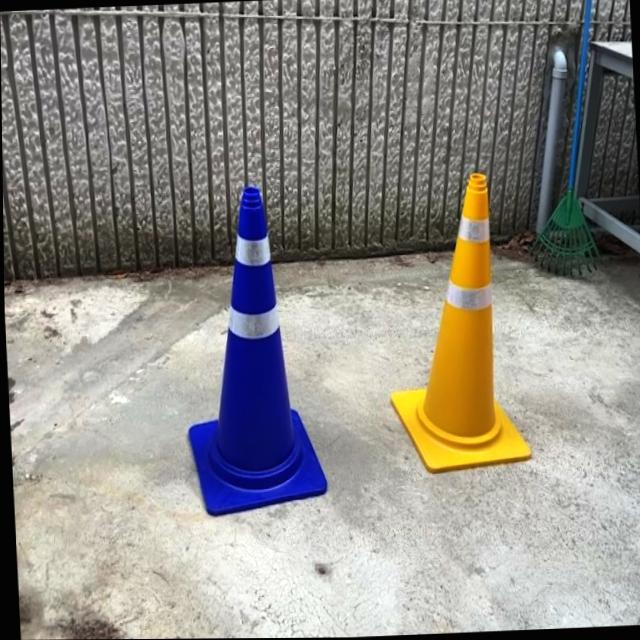b_rub: (187, 186, 326, 515)
y_rub: (390, 173, 530, 473)
